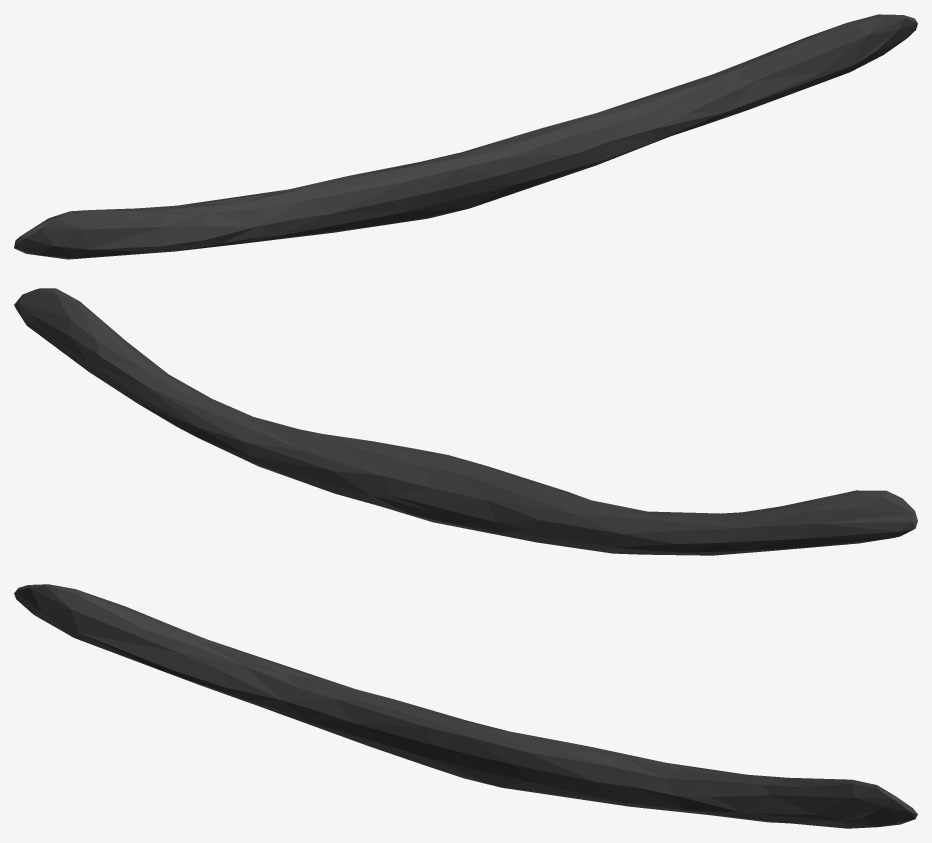
The model's file is tendon_prepubic.glb.
3 renders of one model, top to bottom at view 1: azimuth 30°, elevation 25°; view 2: azimuth 150°, elevation 25°; view 3: azimuth 330°, elevation 25°, orthographic.
Visible parts, largest first — view 1: tendon_prepubic; view 2: tendon_prepubic; view 3: tendon_prepubic.
Boxes of the visible parts, left/top/right/bottom form: tendon_prepubic: left=14, top=14, right=917, bottom=259; tendon_prepubic: left=14, top=288, right=917, bottom=555; tendon_prepubic: left=14, top=584, right=917, bottom=828.
Bounding box in the file's own units: 0.00182 × 0.00022 × 0.000149.
Materials: 1 (1 with a texture image).
